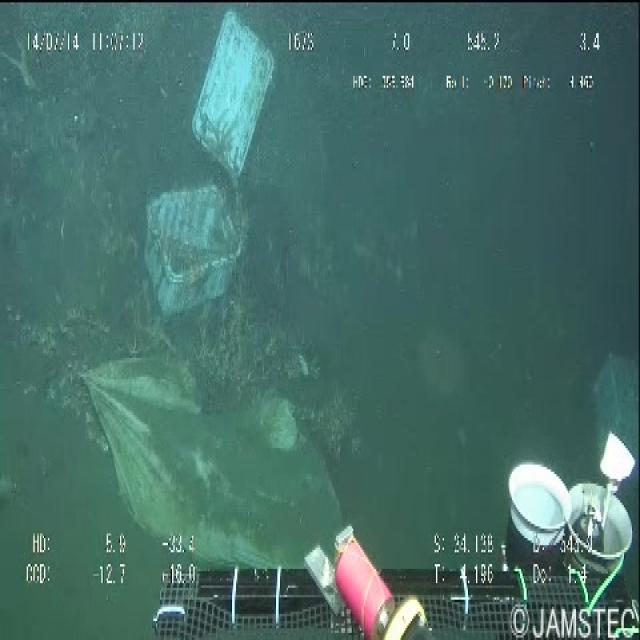plastic: (135, 0, 284, 318)
